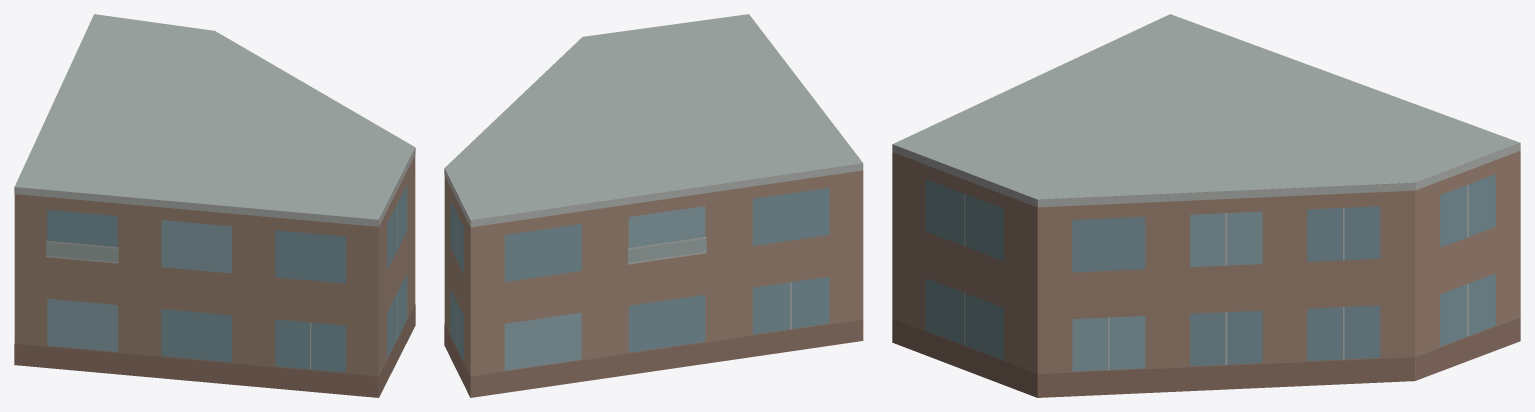
The model's file is survey-upis-32889845.glb.
3 renders of one model, left to right at view 1: azimuth 30°, elevation 25°; view 2: azimuth 150°, elevation 25°; view 3: azimuth 270°, elevation 25°, orthographic. The views are drawn at different scales.
Parts seen in each view (by area): view 1: survey-upis-32889845.tmp; view 2: survey-upis-32889845.tmp; view 3: survey-upis-32889845.tmp.
Boxes of the visible parts, <box> form: survey-upis-32889845.tmp: <box>14,14,415,397</box>; survey-upis-32889845.tmp: <box>444,14,863,397</box>; survey-upis-32889845.tmp: <box>892,14,1520,397</box>.
Size of the model in its own units: 12.25 by 6.1 by 17.52.
